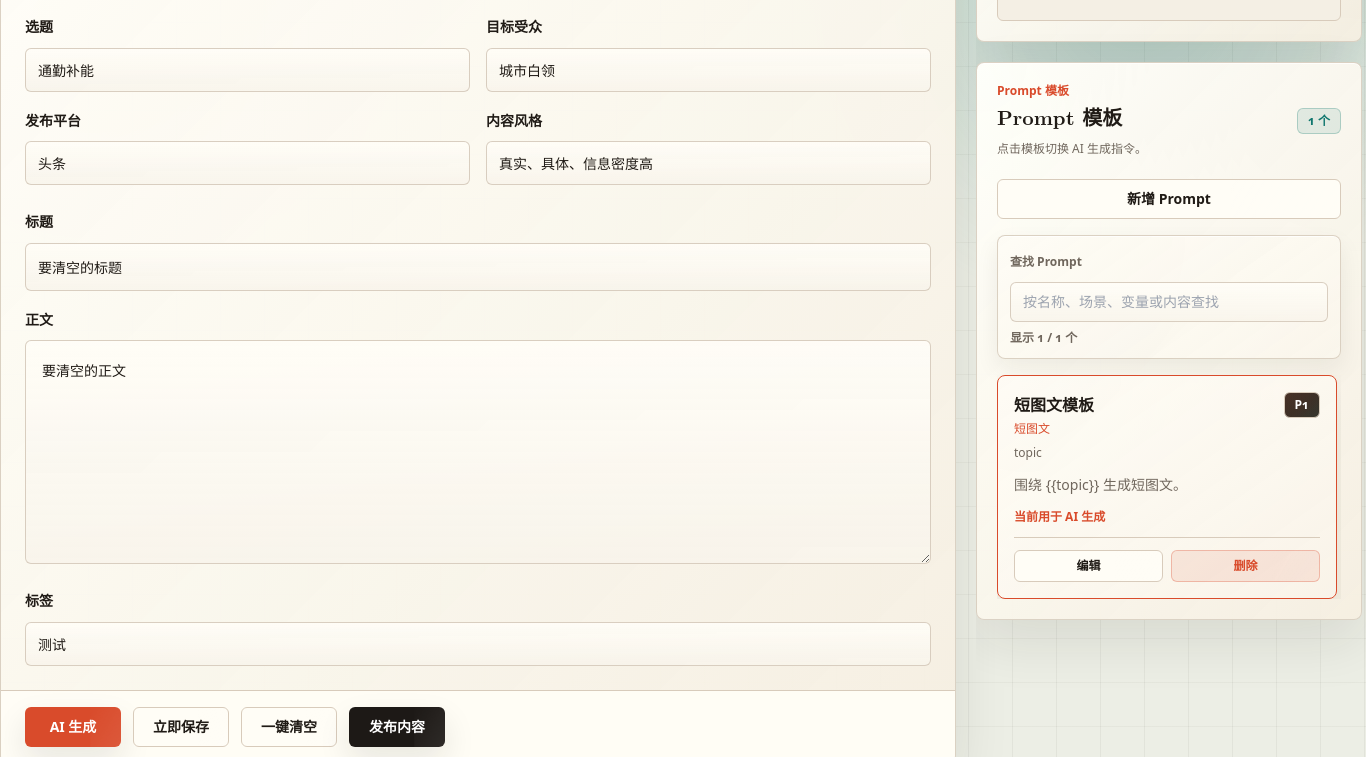
Test case: creation studio › clears the current composer without overwriting the saved draft
(page scrolled)
Step 1. Click the button "一键清空" → [289, 727], box [241,707,337,747]
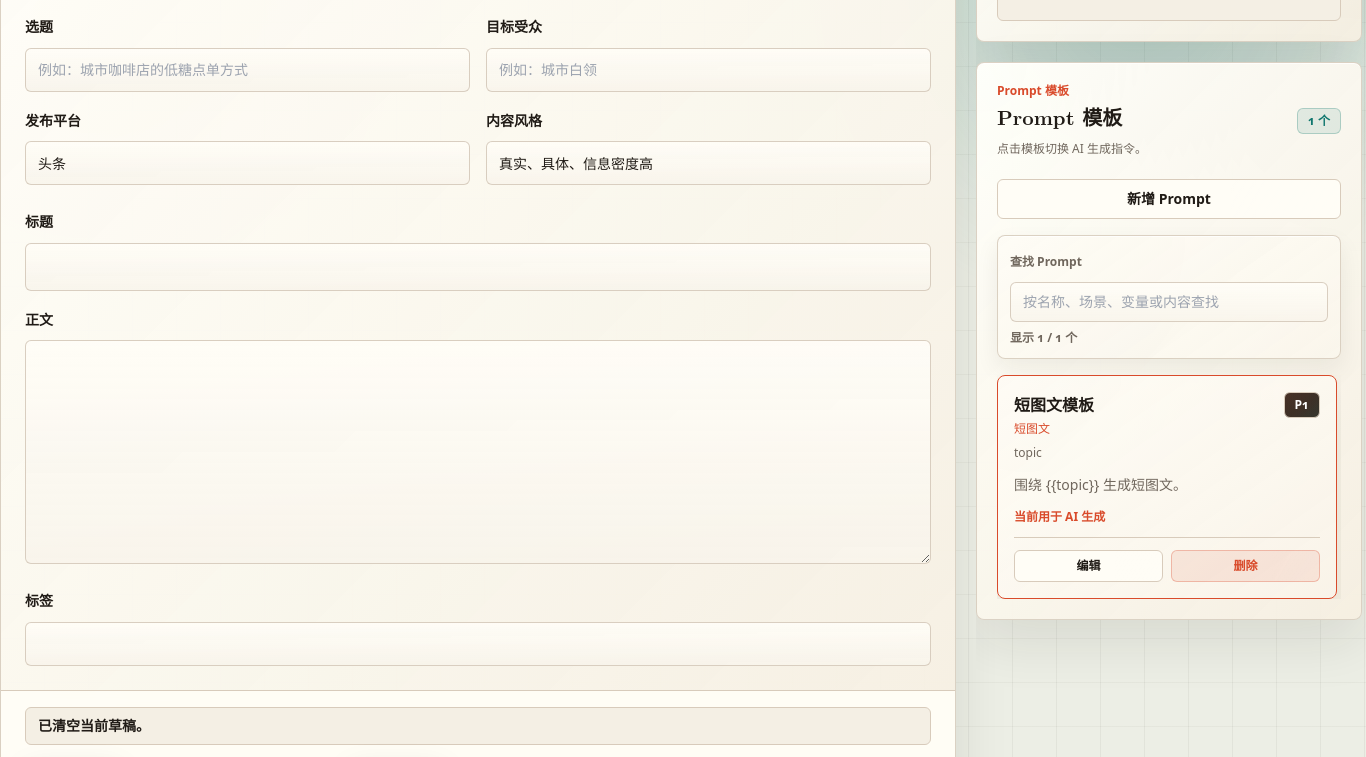
Check: the field labelled "标题" is empty, box [25,243,931,291]
Check: the text box labelled "正文" is empty, box [25,340,931,564]
